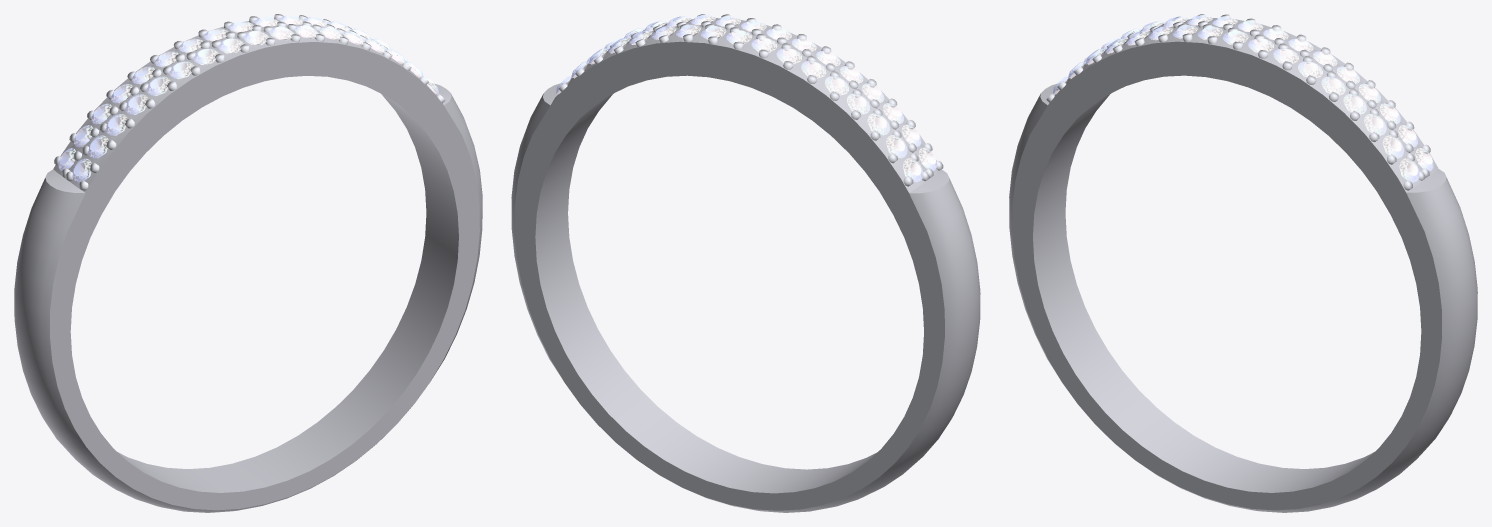
3 views of the same model, side by side, from view 1: azimuth 30°, elevation 25°; view 2: azimuth 150°, elevation 25°; view 3: azimuth 330°, elevation 25° (orthographic).
Parts seen in each view (by area): view 1: Ring, Gem_top, Gem_bottom, Prongs; view 2: Ring, Gem_top, Gem_bottom, Prongs; view 3: Ring, Gem_top, Gem_bottom, Prongs.
Boxes of the visible parts, box(x1,y1,x2,y2) form: Ring: box(14, 20, 482, 512); Gem_top: box(58, 15, 438, 182); Gem_bottom: box(58, 17, 438, 181); Prongs: box(54, 14, 445, 190); Ring: box(511, 18, 980, 512); Gem_top: box(556, 14, 936, 182); Gem_bottom: box(556, 16, 936, 181); Prongs: box(558, 14, 943, 186); Ring: box(1009, 18, 1477, 512); Gem_top: box(1053, 15, 1433, 182); Gem_bottom: box(1053, 17, 1433, 181); Prongs: box(1046, 14, 1430, 190).
Size of the model in its own units: 0.0229 by 0.0228 by 0.00284.
Materials: 4 (1 with a texture image).
